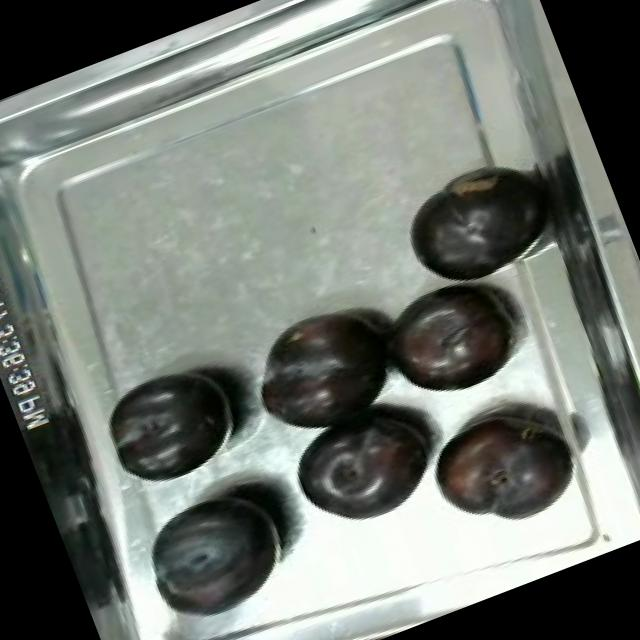Fruit: (118, 461, 318, 640), (228, 286, 418, 458), (271, 384, 460, 554), (408, 385, 596, 554), (85, 344, 261, 507), (387, 149, 566, 307), (362, 260, 536, 420)
